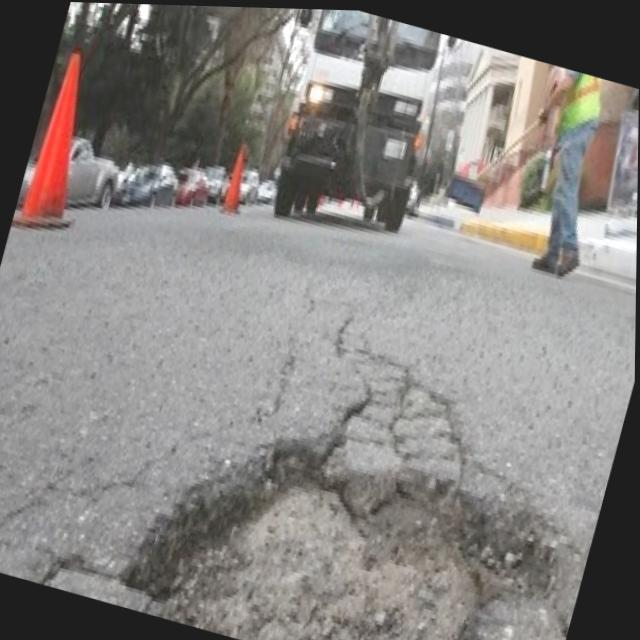Pothole: (95, 432, 586, 640)
